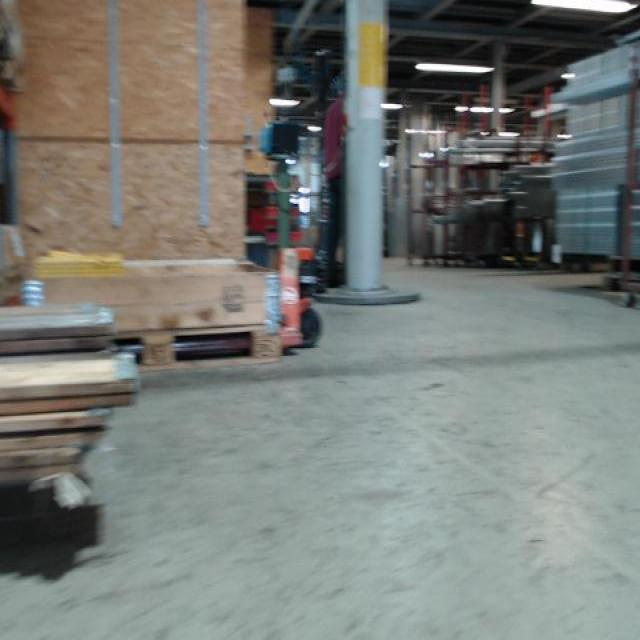pallet: (111, 321, 282, 381)
pallet_truck: (263, 43, 342, 370)
